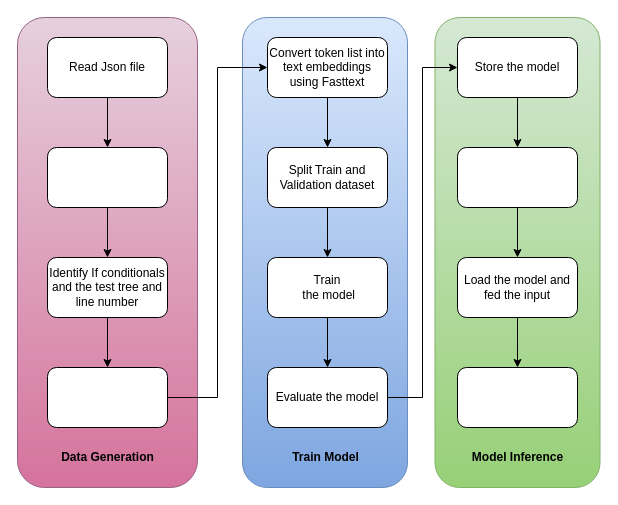
This 618x505 diagram has some shape labels left out. The box of each missing label's shape, as (x1, y1, x2, y2) in pixels:
Extract AST tree from Json file: (46, 146, 168, 208)
Generate the positive and negative token list for each test tree: (46, 366, 168, 428)
Generate tokens for test files and convert into text embedding: (456, 146, 578, 208)
Submit the predicted results: (456, 366, 578, 428)
